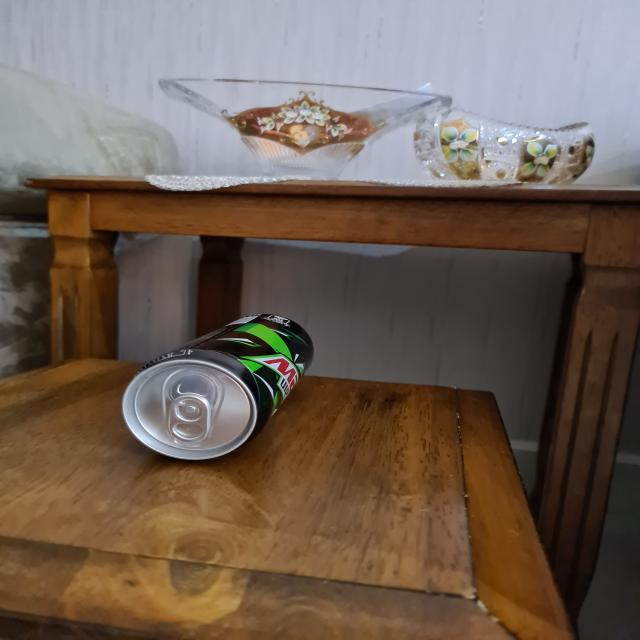non-organic waste: (119, 311, 325, 469)
